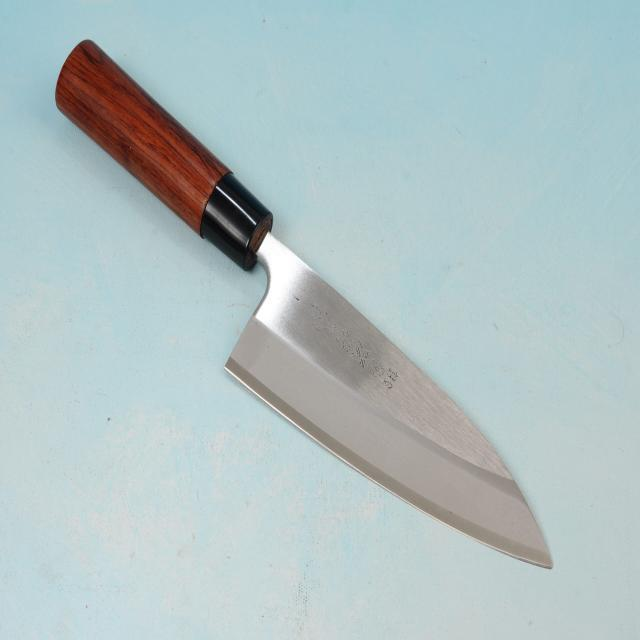Knife: (48, 36, 576, 578)
